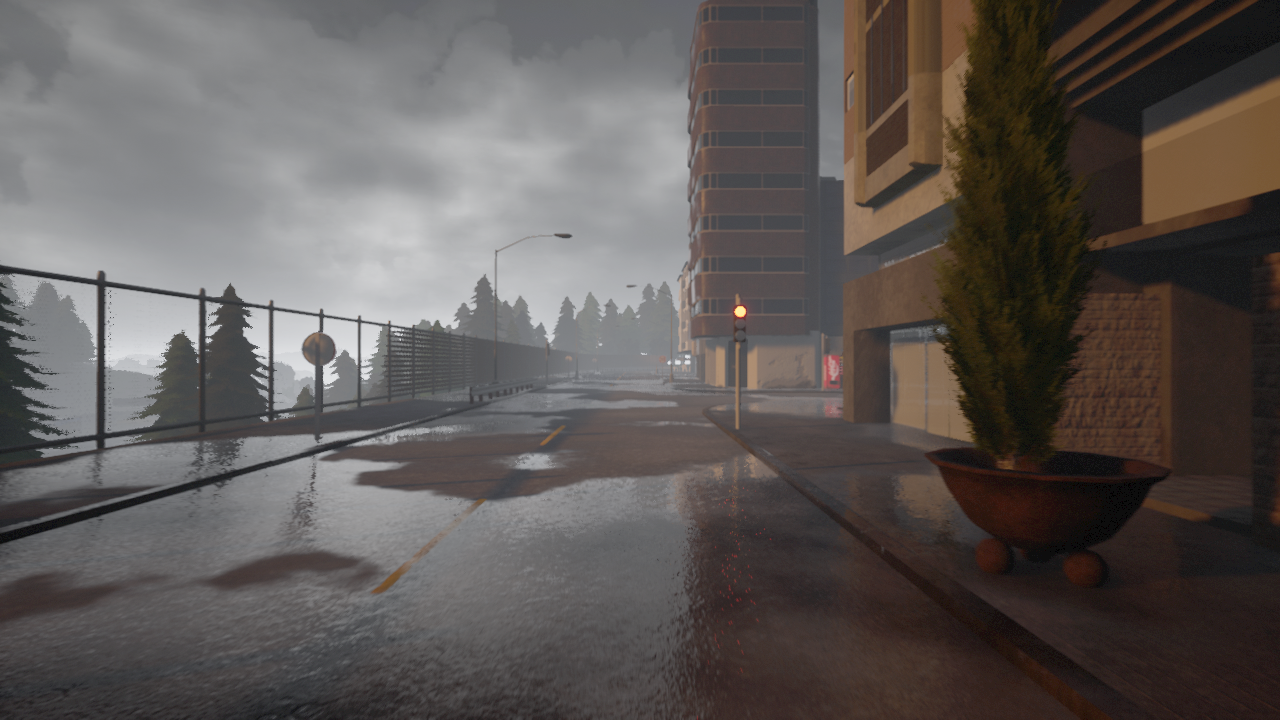red: (733, 304, 747, 342)
